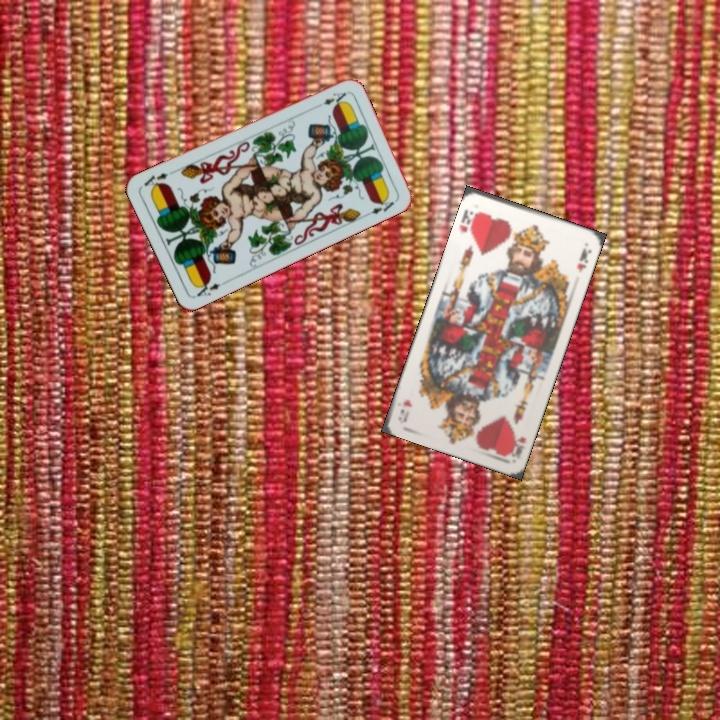EA: (190, 276, 223, 300), (319, 88, 349, 107)
HK: (455, 205, 482, 237), (504, 431, 529, 461)
